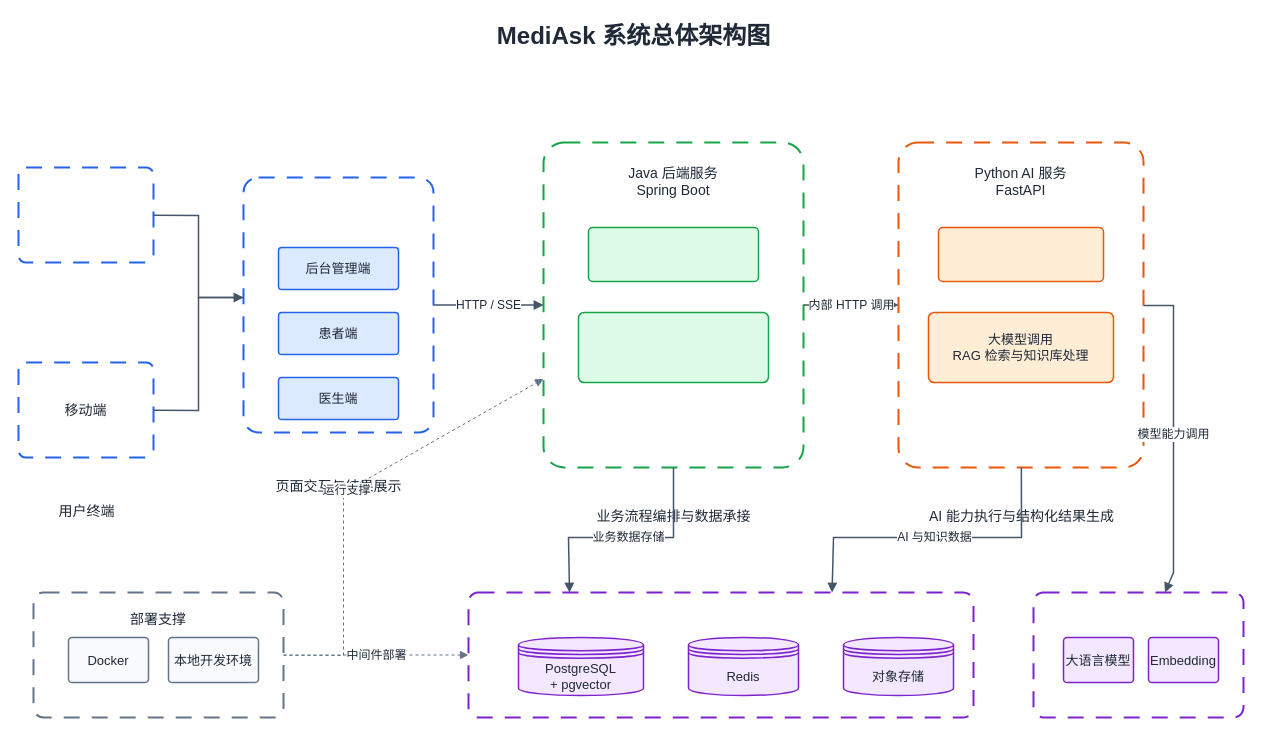
Image size: 1261x735. Some labels were removed from this diagram. Here are the shapes that lost their labels. From the top down, the box of each, then its label:
(17, 166, 154, 263): 电脑端
(587, 226, 759, 282): MediAsk 业务后端
(937, 226, 1104, 282): 智能导诊服务
(242, 176, 434, 433): 前端应用 React
(577, 311, 769, 383): 统一业务入口 认证授权 / 挂号接诊 / 病历处方
(467, 591, 974, 718): 数据存储
(1032, 591, 1244, 718): 外部模型服务
